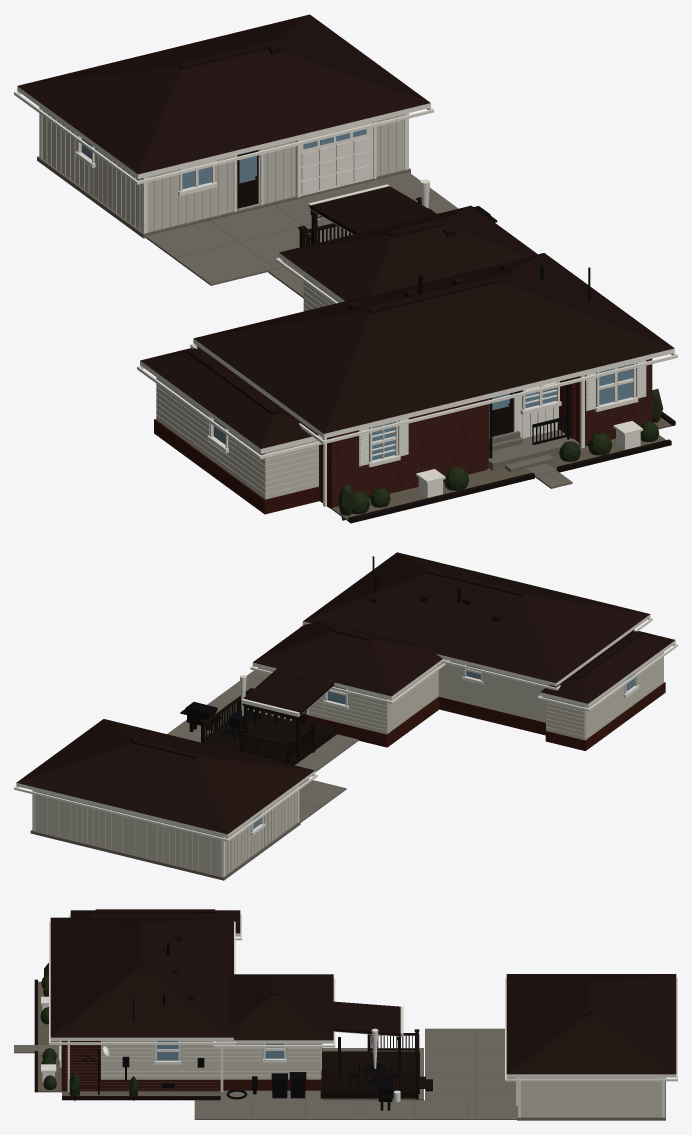
The model's file is Residence408.obj.
The picture shows the model from 3 angles, top to bottom: view 1: azimuth 30°, elevation 25°; view 2: azimuth 150°, elevation 25°; view 3: azimuth 270°, elevation 25°; orthographic projection. The views are drawn at different scales.
Visible parts, largest first — view 1: roof_main, roof_garage, roof_rear, drive_yard, course_front_west, garage_wall_south, roof_west, lap_west_add, garage_wall_west, porch_roof, course_front_west_joints, garage_door_ribs (+22 smaller); view 2: roof_main, roof_garage, roof_rear, garage_wall_north, siding_main_rear, roof_west, batten_garage_north, deck_boards, porch_roof, lap_west_add, garage_wall_west, lap_rear_north (+22 smaller); view 3: roof_main, roof_garage, roof_rear, drive_yard, drive_lane, garage_wall_east, lap_east, lap_rear_east, deck_boards, porch_roof, batten_garage_east, course_return_east (+26 smaller).
Boxes of the visible parts, left/top/right/bottom form: roof_main: left=194, top=253, right=674, bottom=433; roof_garage: left=18, top=14, right=430, bottom=174; roof_rear: left=279, top=205, right=537, bottom=301; drive_yard: left=145, top=172, right=457, bottom=285; course_front_west: left=331, top=399, right=487, bottom=508; garage_wall_south: left=148, top=114, right=403, bottom=231; roof_west: left=140, top=346, right=318, bottom=448; lap_west_add: left=156, top=377, right=265, bottom=499; garage_wall_west: left=42, top=109, right=141, bottom=230; porch_roof: left=309, top=186, right=436, bottom=234; course_front_west_joints: left=331, top=400, right=487, bottom=507; garage_door_ribs: left=301, top=137, right=369, bottom=194; roof_main: left=303, top=552, right=650, bottom=682; roof_garage: left=16, top=719, right=314, bottom=834; roof_rear: left=253, top=620, right=442, bottom=696; garage_wall_north: left=35, top=791, right=220, bottom=875; siding_main_rear: left=438, top=660, right=549, bottom=722; roof_west: left=540, top=630, right=674, bottom=703; batten_garage_north: left=35, top=791, right=220, bottom=876; deck_boards: left=205, top=709, right=337, bottom=762; porch_roof: left=243, top=668, right=334, bottom=714; lap_west_add: left=585, top=652, right=663, bottom=740; garage_wall_west: left=225, top=787, right=296, bottom=874; lap_rear_north: left=271, top=670, right=386, bottom=734; roof_main: left=50, top=917, right=233, bottom=1037; roof_garage: left=506, top=974, right=676, bottom=1074; roof_rear: left=228, top=974, right=333, bottom=1040; drive_yard: left=425, top=1028, right=516, bottom=1119; drive_lane: left=194, top=1100, right=516, bottom=1119; garage_wall_east: left=521, top=1077, right=661, bottom=1117; lap_east: left=101, top=1041, right=219, bottom=1079; lap_rear_east: left=219, top=1043, right=320, bottom=1079; deck_boards: left=321, top=1051, right=415, bottom=1092; porch_roof: left=333, top=1001, right=401, bottom=1036; batten_garage_east: left=524, top=1077, right=661, bottom=1117; course_return_east: left=65, top=1041, right=100, bottom=1091.
Size of the model in its own units: 18.05 by 5.07 by 30.52.
